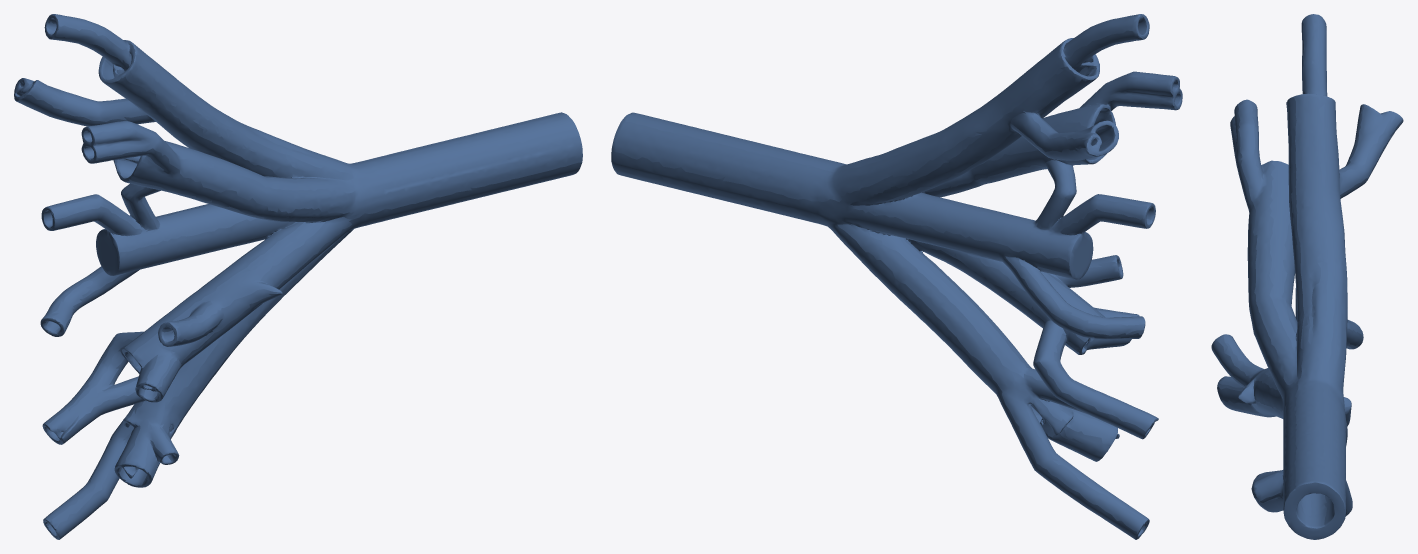
Rendered from renal-vein.glb.
The picture shows the model from 3 angles, left to right: view 1: azimuth 30°, elevation 25°; view 2: azimuth 150°, elevation 25°; view 3: azimuth 270°, elevation 25°; orthographic projection.
Parts seen in each view (by area): view 1: Lux3D_renal-vein; view 2: Lux3D_renal-vein; view 3: Lux3D_renal-vein.
Part boxes in pixels (box(x1,y1,x2,y2)): Lux3D_renal-vein: box(14, 14, 582, 539); Lux3D_renal-vein: box(611, 14, 1182, 539); Lux3D_renal-vein: box(1211, 14, 1403, 539).
Size of the model in its own units: 1 by 0.958 by 0.3223.
